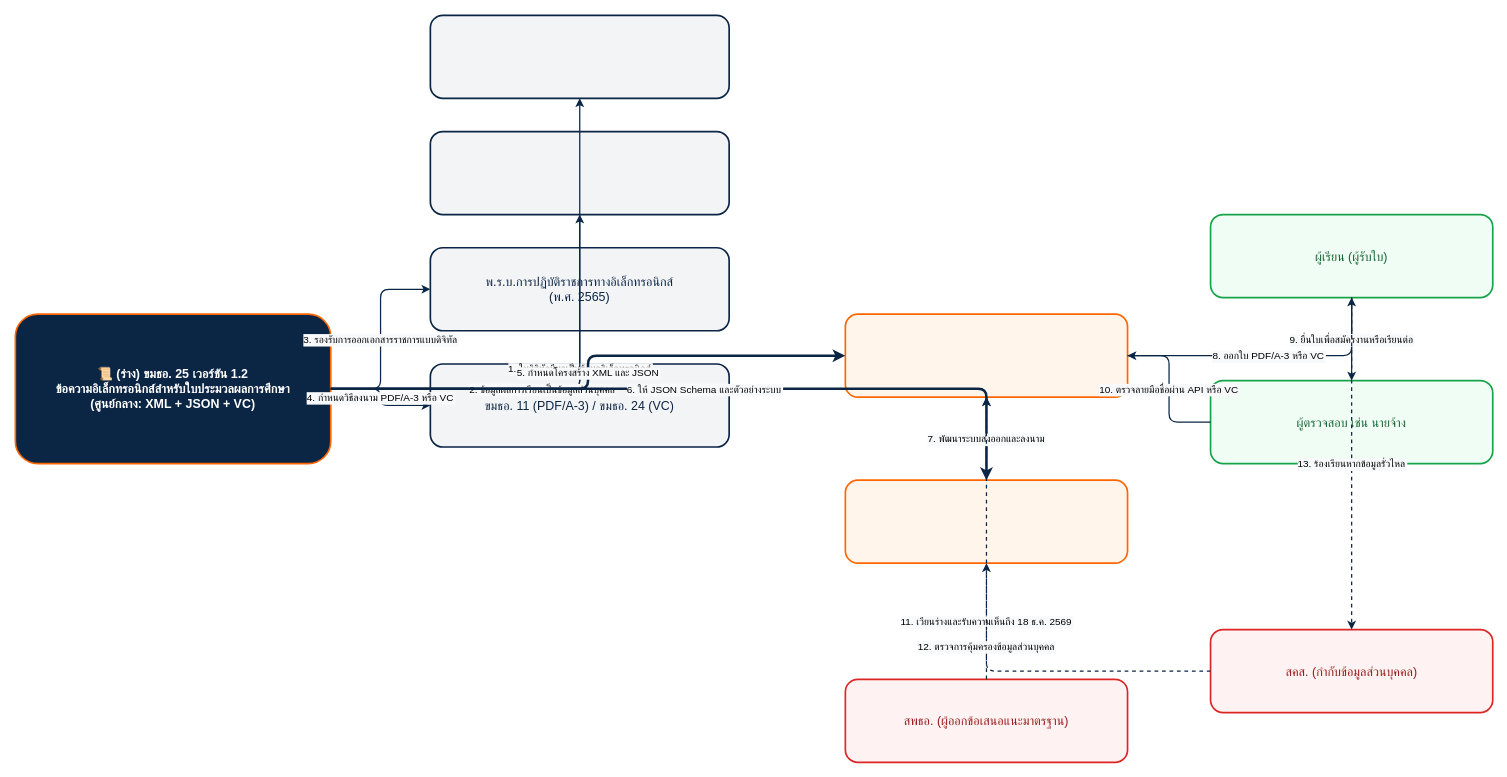
This 1507x777 diagram has some shape labels left out. The box of each missing label's shape, as (x1, y1, x2, y2) in pixels:
ผู้พัฒนาระบบทะเบียน / กระเป๋าเอกสารดิจิทัล: (844, 479, 1128, 564)
พ.ร.บ.คุ้มครองข้อมูลส่วนบุคคล (PDPA พ.ศ. 2562): (429, 130, 730, 215)
พ.ร.บ.ธุรกรรมทางอิเล็กทรอนิกส์ (พ.ศ. 2544): (429, 14, 730, 99)
สถาบันการศึกษา (ผู้ออกใบ): (844, 313, 1128, 398)
